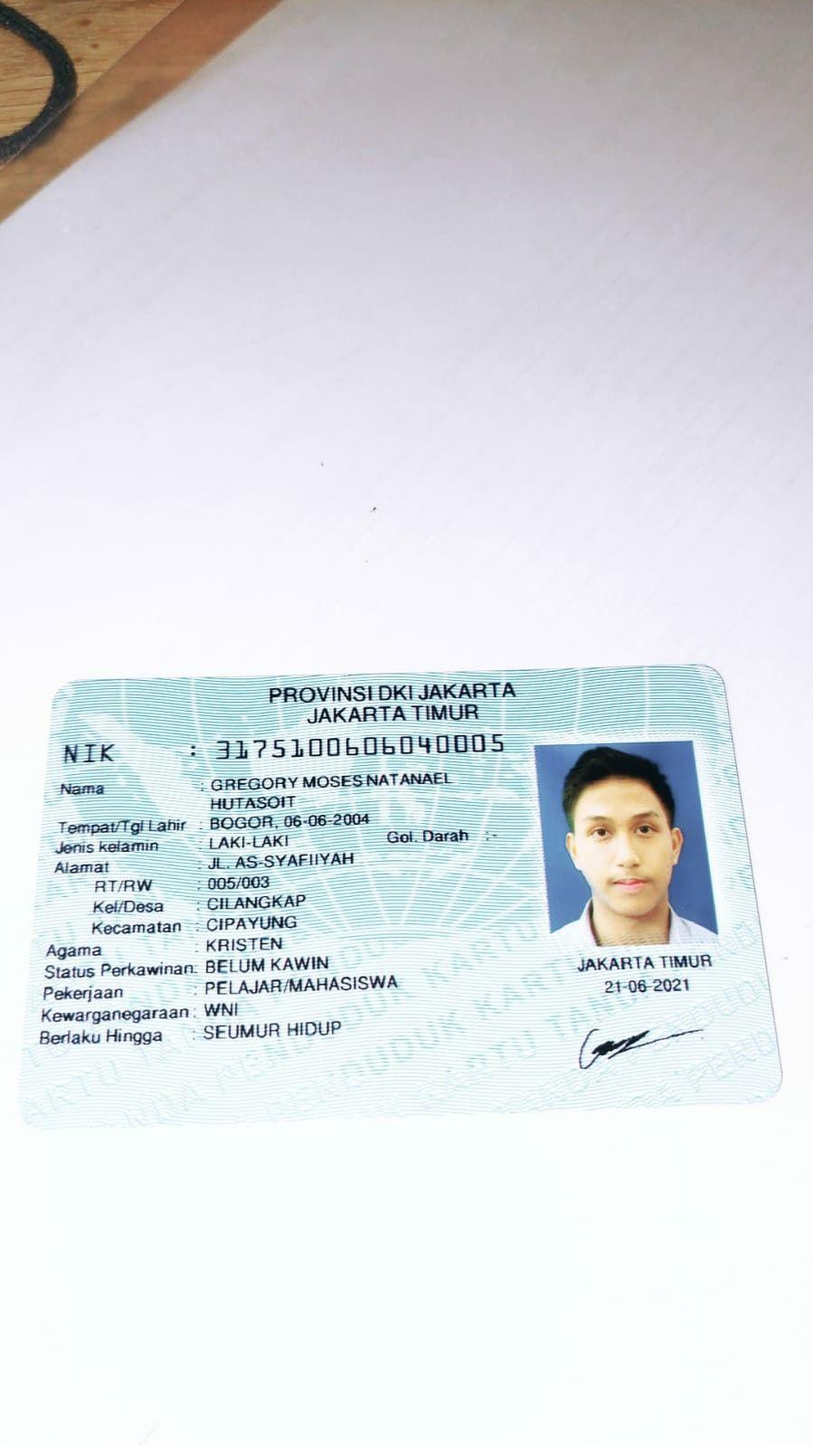ID-card: (25, 670, 780, 1103)
